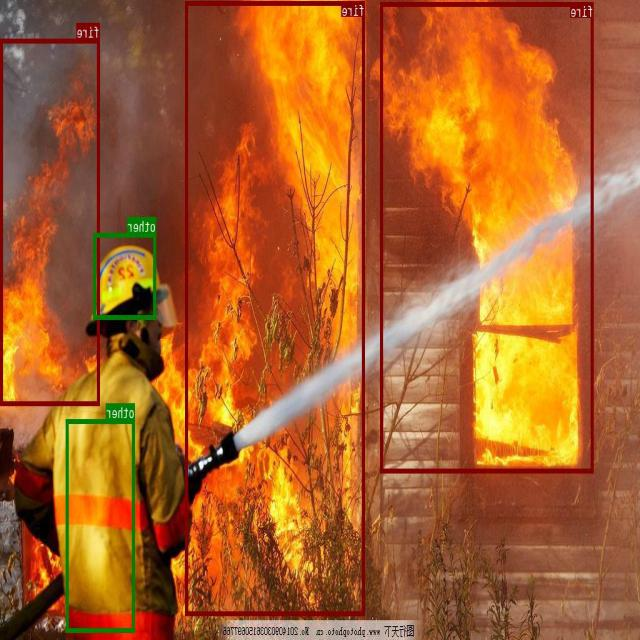fire: (186, 1, 366, 614), (381, 2, 594, 472), (1, 39, 100, 404)
other: (66, 418, 136, 632), (95, 232, 156, 318)
